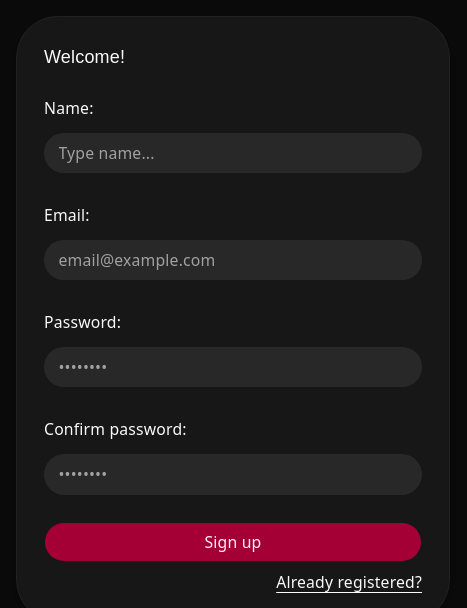
Test: Register page › shows a validation error when passwords do not match
This screenshot has width=467, height=608.
Type "Test Player" into the field labelled "Name:" at [233, 153], box left=44, top=133, right=422, bottom=173
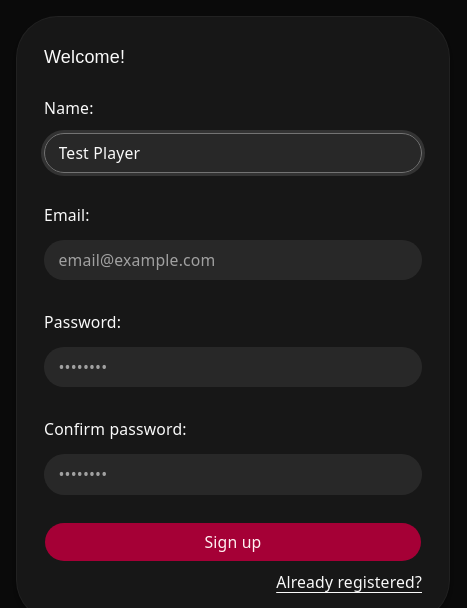
Type "player@example.com" into the field labelled "Email:" at [233, 260], box left=44, top=240, right=422, bottom=280
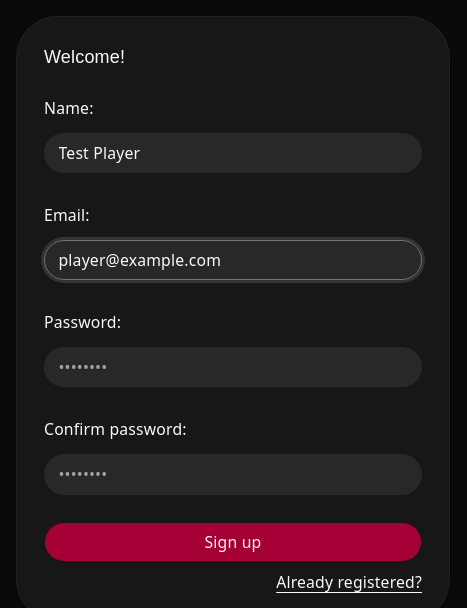
Type "correct-password" into the password field labelled "Password:" at [233, 367], box left=44, top=347, right=422, bottom=388
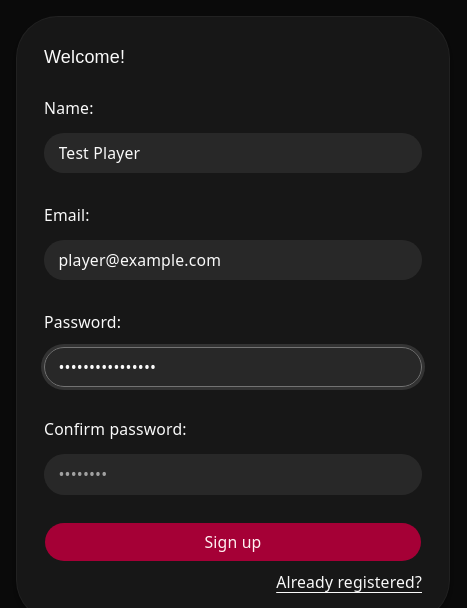
Type "different-password" into the password field labelled "Confirm password:" at [233, 474], box left=44, top=454, right=422, bottom=495
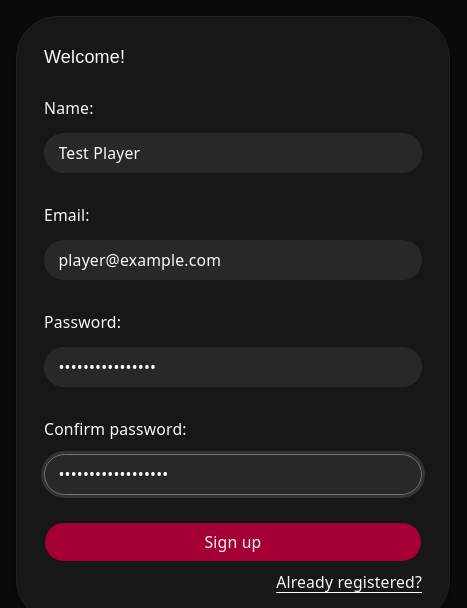
Click the button "Sign up" at [233, 542], box left=44, top=522, right=422, bottom=562
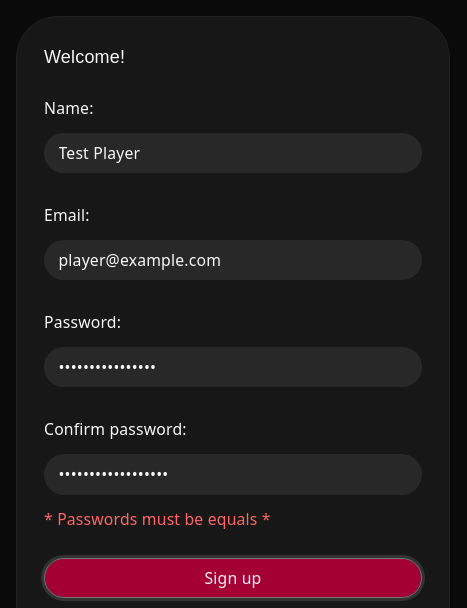
Expected: the text "* Passwords must be equals *" is shown, left=44, top=508, right=271, bottom=530
